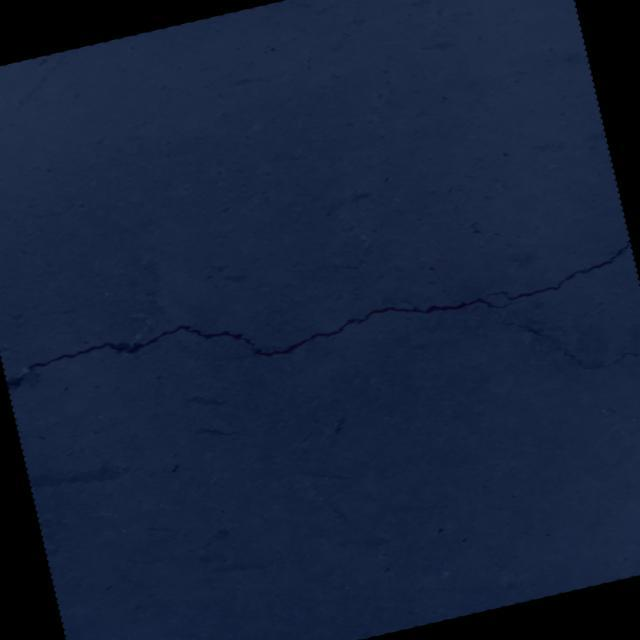crack: (1, 220, 640, 499)
